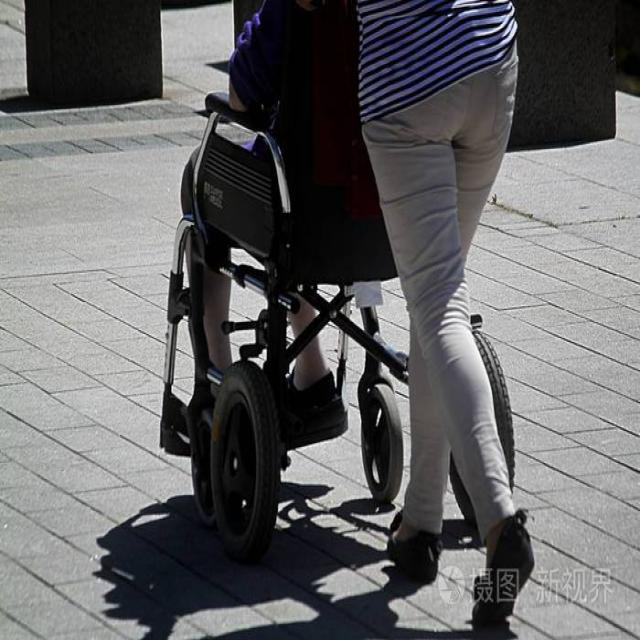wheelchairs: (153, 74, 528, 565)
